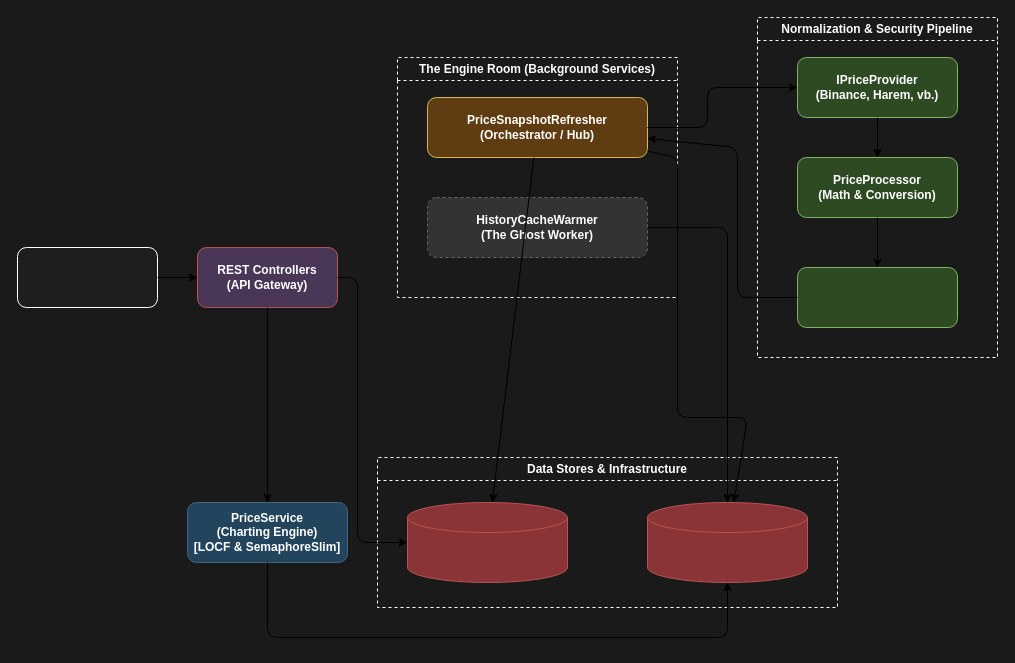
The diagram is 1015 pixels wide and 663 high, and some of its shapes have lost their labels. Here are the shapes that lost their labels. From the top down, the centre of each, then its label:
At point 87,277: "Yastık6 Mobile Client".
At point 877,297: "PriceShieldValidator (Anomaly Detection)".
At point 487,542: "PriceSnapshotStore (O(1) RAM Cache)".
At point 727,542: "SQLite AppDbContext (Time-Series DB)".
